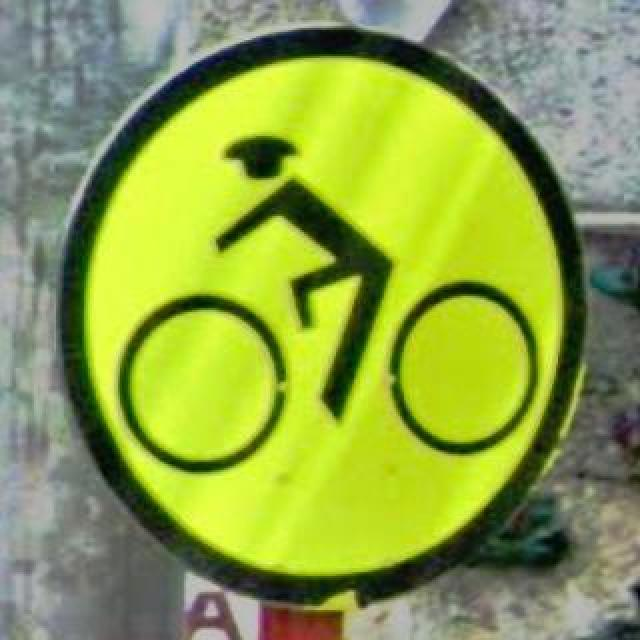bike lane: (54, 26, 586, 606)
